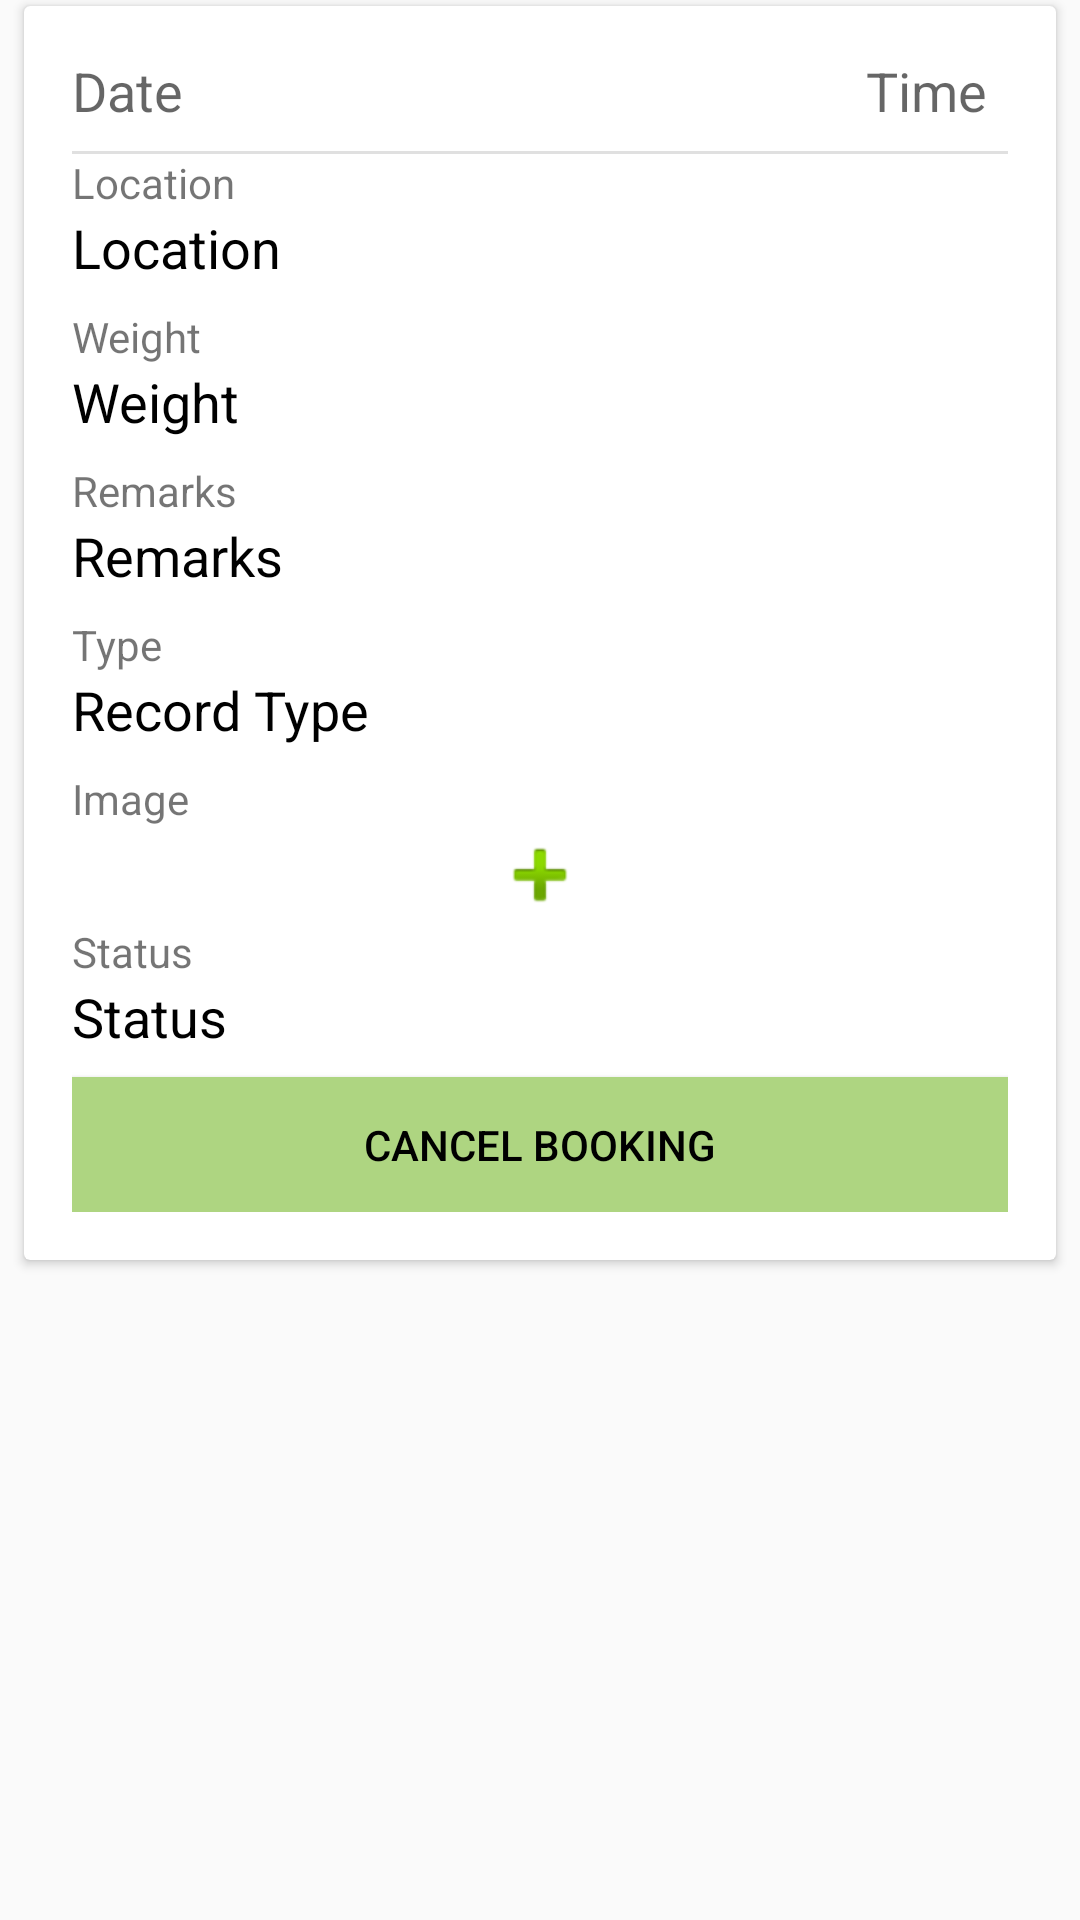

Named icons in this screenshot (1080*1920) and their bounding boxes, (x1, y1, x2, y2):
add: (513, 848, 567, 902)
